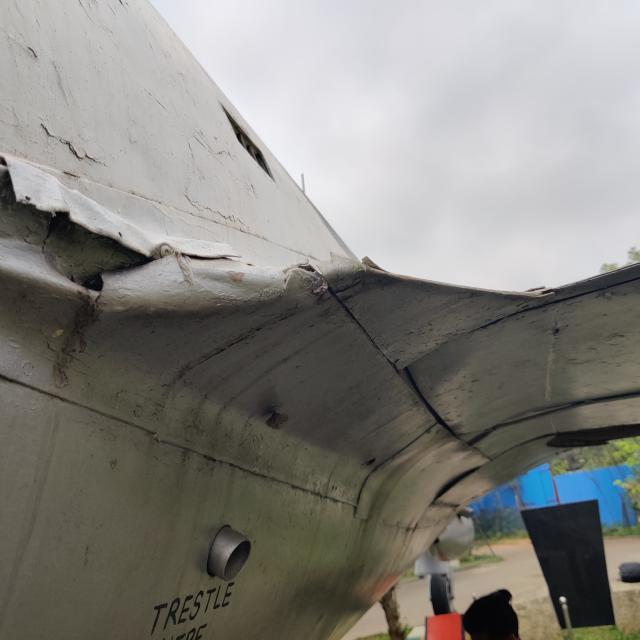crack: (333, 245, 399, 288), (282, 245, 326, 290)
